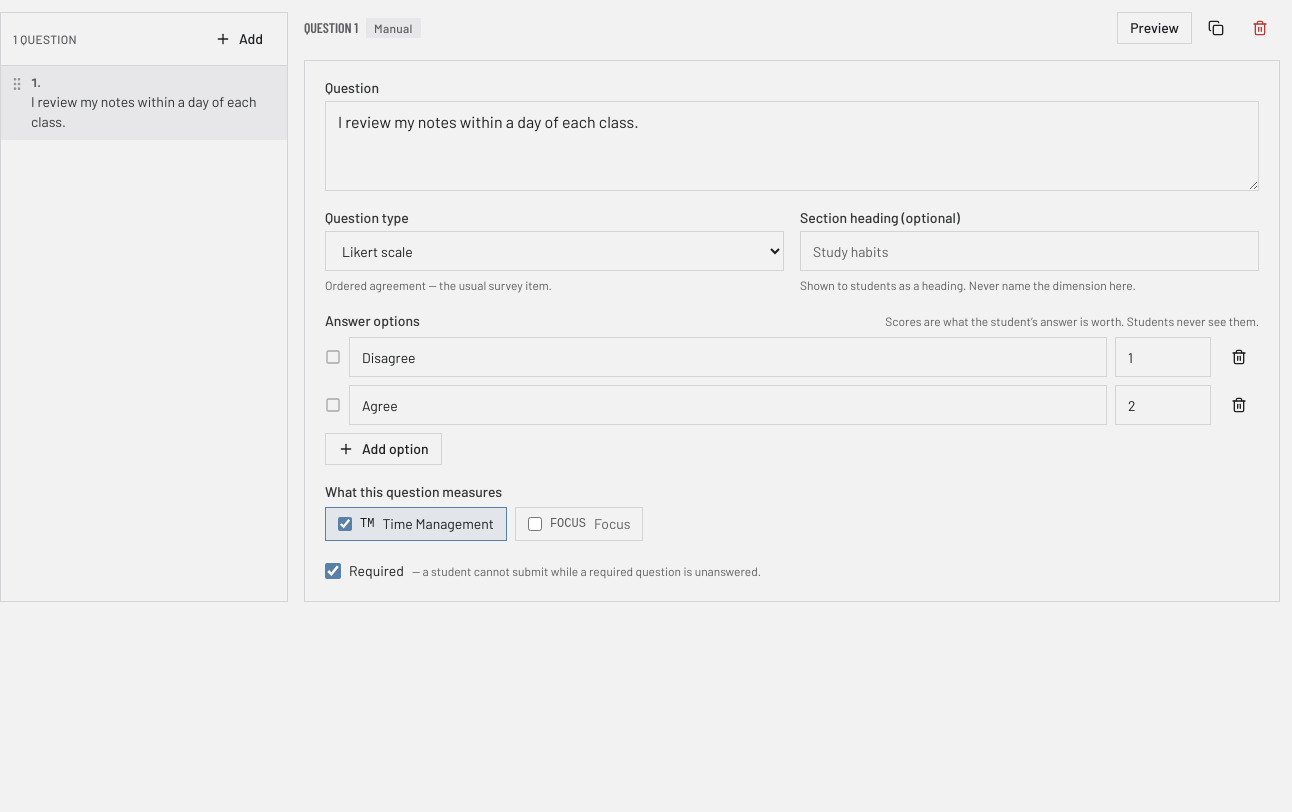
auto-save › keeps the text and explains when a save fails
Replace the text in the text box labelled "Question" with "Survives the failure.". click: [792, 146]
box: x1=325 y1=101 x2=1259 y2=191
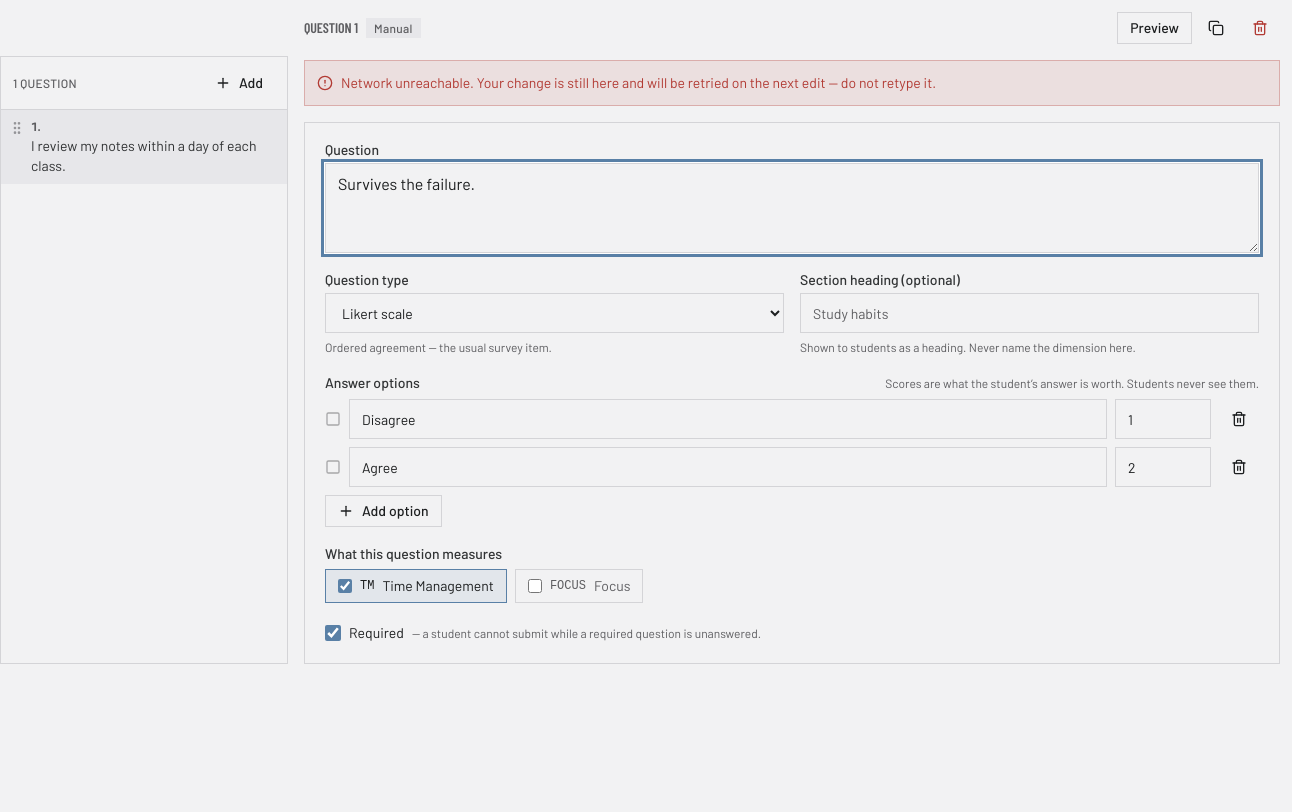
Check: the text "Network unreachable" is shown, box x1=341 y1=74 x2=474 y2=91
Check: the text "do not retype it" is shown, box x1=474 y1=74 x2=936 y2=91
